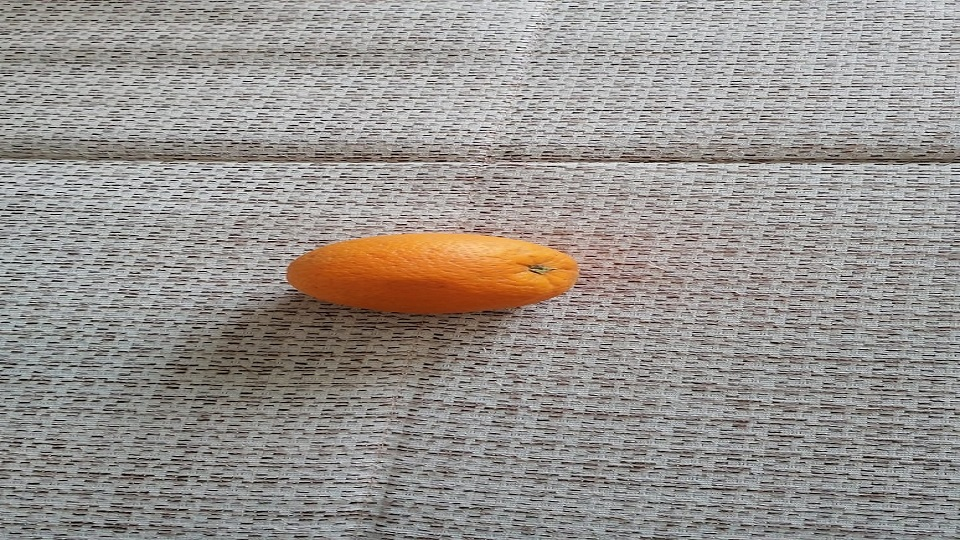portakal: (285, 231, 581, 317)
